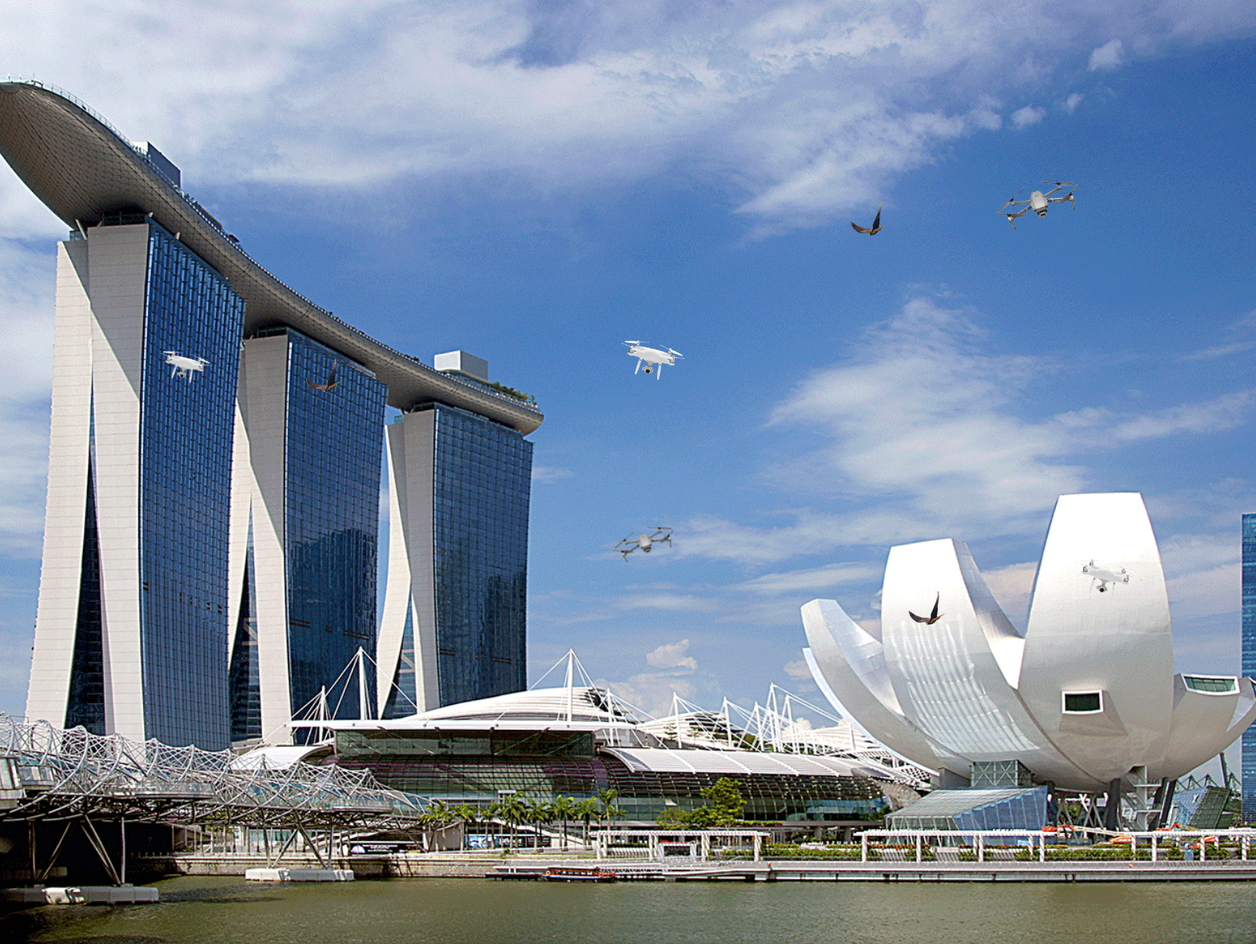drone_other: (995, 178, 1083, 232), (619, 337, 686, 381), (611, 524, 676, 565), (1076, 555, 1133, 597), (161, 347, 213, 385)
